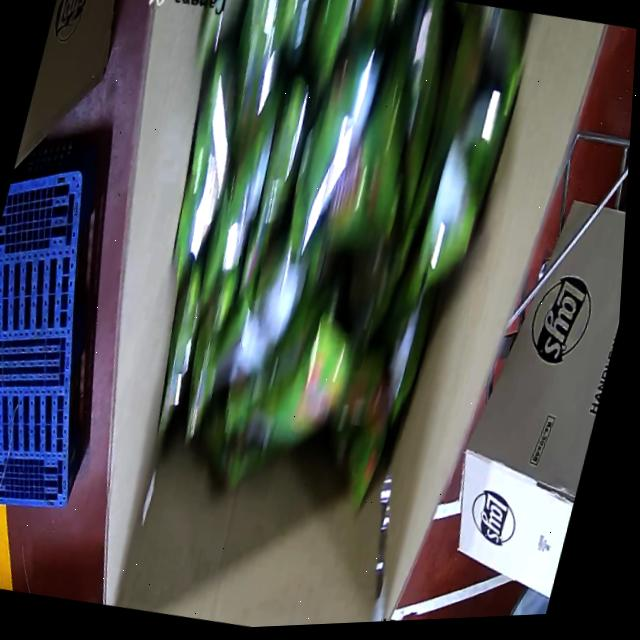YOGURT_HERB: (95, 0, 545, 534)
